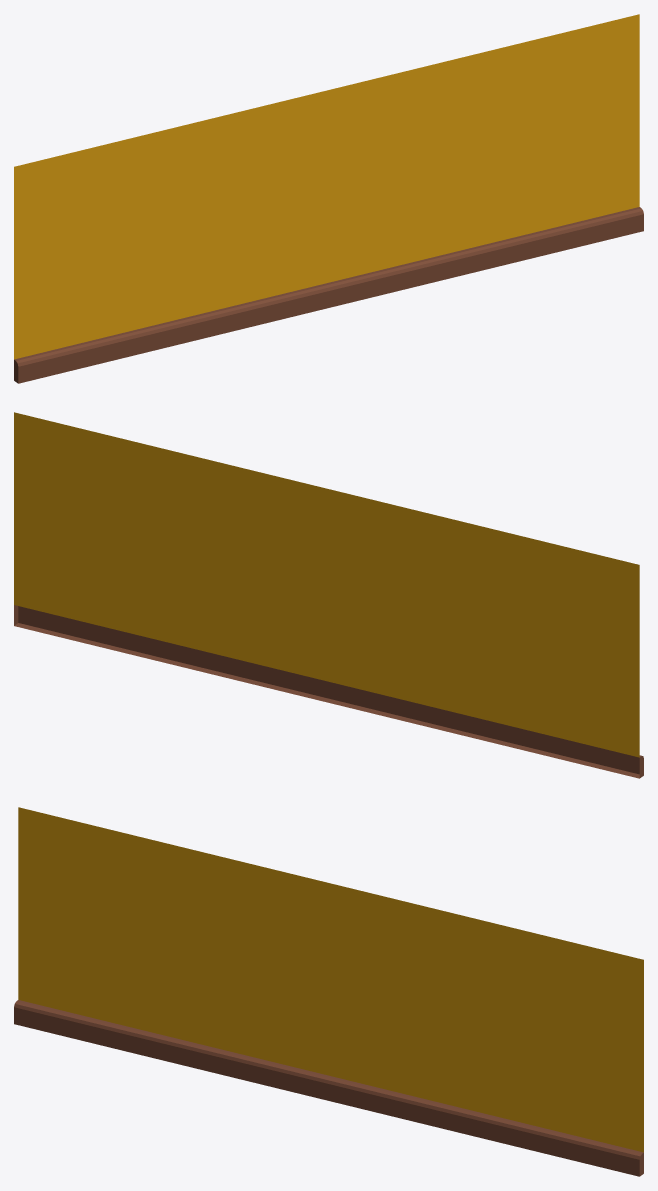
Rendered from Wall.fbx.
The picture shows the model from 3 angles, top to bottom: view 1: azimuth 30°, elevation 25°; view 2: azimuth 150°, elevation 25°; view 3: azimuth 330°, elevation 25°; orthographic projection.
Parts seen in each view (by area): view 1: Wall; view 2: Wall; view 3: Wall.
Part boxes in pixels (x1,y1,x2,y2): Wall: [14, 14, 643, 383]; Wall: [14, 412, 643, 778]; Wall: [14, 807, 643, 1176].
Size of the model in its own units: 911 by 297 by 10.91.
